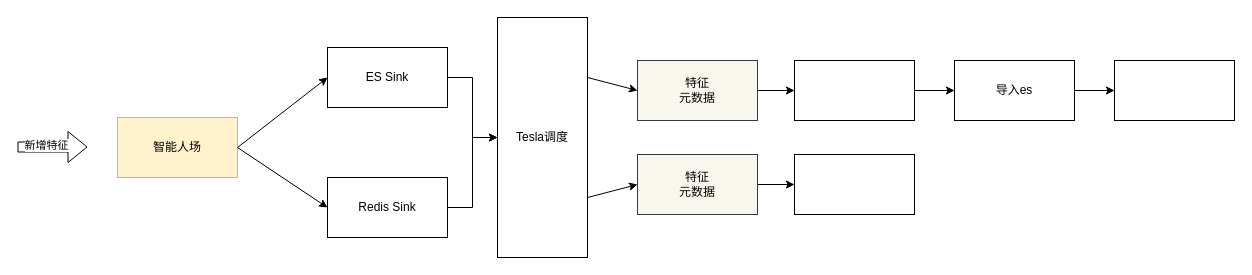
The diagram is 1252 pixels wide and 275 high, and some of its shapes have lost their labels. The box of each missing label's shape, as (x1, y1, x2, y2) in pixels:
替换index: (1114, 60, 1234, 120)
直接导入redis: (794, 154, 914, 214)
获取字段，建mapping: (794, 60, 914, 120)
